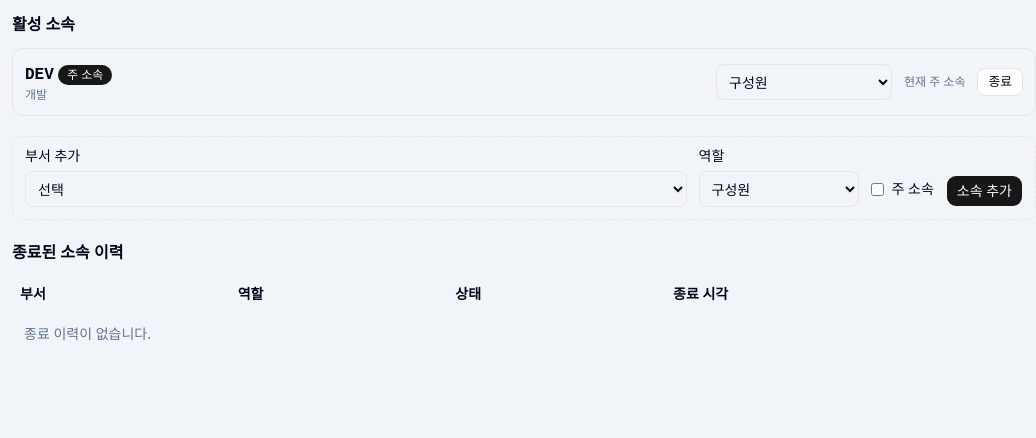
Test: prevents ending the sole primary of an active user and surfaces HEAD conflict
Click the button with aria-label "DEV 소속 종료": click(1000, 82) [978,68,1023,96]
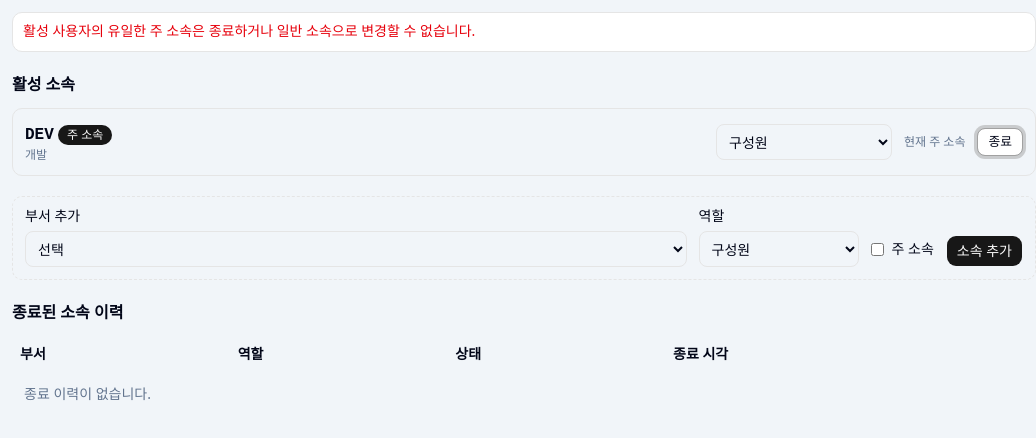
Now the text "활성 사용자의 유일한 주 소속은 종료하거나 일반 소속으로 변경할 수 없습니다." is shown, box [23,21,475,40]
Select "부서장" in the dropdown named "DEV 역할": (804, 142) [716,124,892,160]
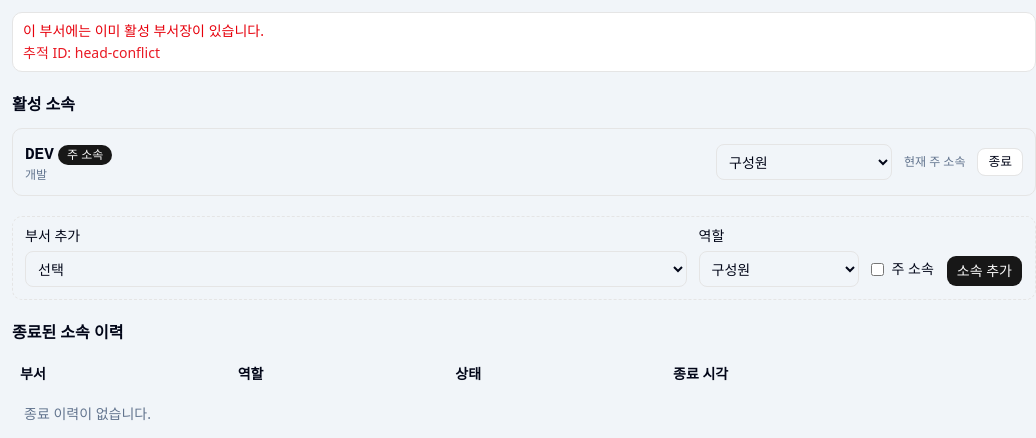
Now the text "이 부서에는 이미 활성 부서장이 있습니다." is shown, box [23,21,264,40]
Now the text "추적 ID: head-conflict" is shown, box [23,43,160,62]
